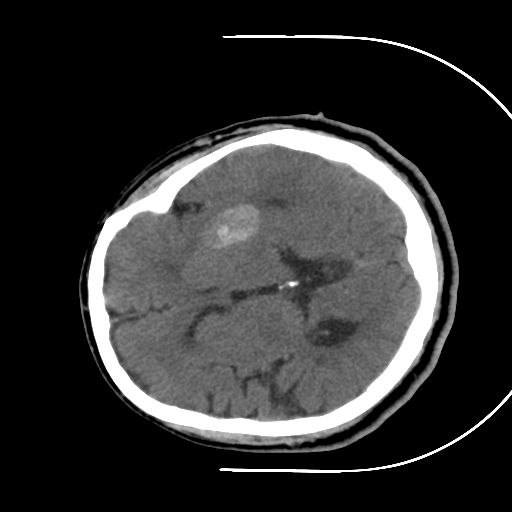a: (184, 186, 273, 258)
